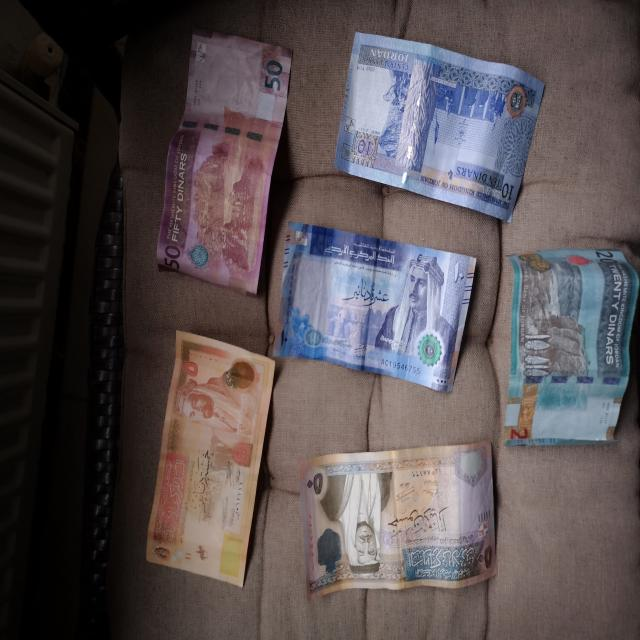10-dinar: (333, 32, 545, 223), (273, 222, 477, 392)
20-dinar: (503, 250, 640, 446)
5-dinar: (146, 330, 276, 588)
50-dinar: (158, 25, 294, 298), (298, 438, 498, 602)
